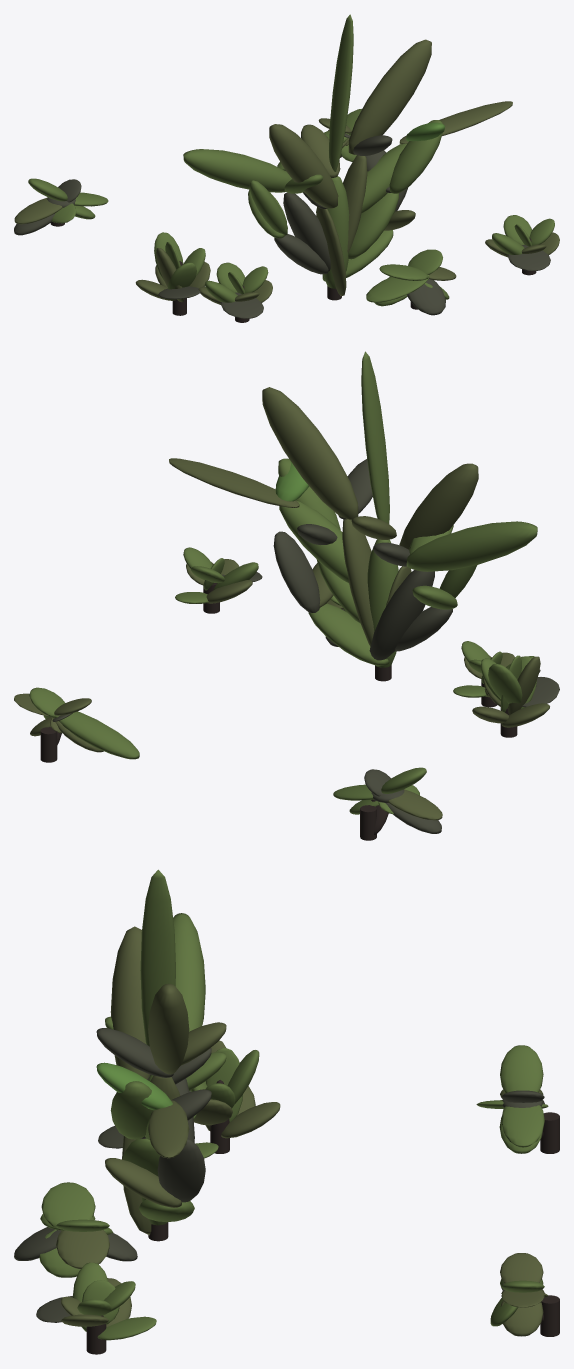
The model's file is CMU3DRMCBusha1.glb.
3 renders of one model, top to bottom at view 1: azimuth 30°, elevation 25°; view 2: azimuth 150°, elevation 25°; view 3: azimuth 270°, elevation 25°, orthographic. The views are drawn at different scales.
Visible parts, largest first — view 1: main blade 3 section 1, main blade 1 section 1, main blade 0 section 1, main blade 2 section 1, main blade 1 section 0, main blade 4 section 1, main blade 4 section 0, main blade 3 section 0, main blade 7 section 0, main blade 0 section 0, main blade 7 section 1, main blade 2 section 0 (+28 smaller); view 2: main blade 3 section 1, main blade 1 section 1, main blade 0 section 1, main blade 2 section 1, main blade 1 section 0, main blade 3 section 0, main blade 5 section 1, main blade 7 section 1, main blade 7 section 0, main blade 5 section 0, tuft 1 source leaf 0, main blade 2 section 0 (+20 smaller); view 3: main blade 2 section 1, main blade 0 section 1, main blade 3 section 1, main blade 1 section 1, main blade 5 section 1, tuft 4 source leaf 6, main blade 4 section 1, main blade 7 section 1, main blade 5 depth leaf, tuft 0 source leaf 6, tuft 4 source leaf 3, main blade 3 depth leaf (+23 smaller).
Part boxes in pixels (box(x1,y1,x2,y2)): main blade 3 section 1: box(348, 39, 431, 155); main blade 1 section 1: box(183, 149, 291, 192); main blade 0 section 1: box(269, 124, 338, 208); main blade 2 section 1: box(329, 14, 353, 171); main blade 1 section 0: box(283, 192, 330, 271); main blade 4 section 1: box(389, 120, 442, 193); main blade 4 section 0: box(348, 193, 398, 259); main blade 3 section 0: box(343, 155, 367, 253); main blade 7 section 0: box(361, 143, 406, 213); main blade 0 section 0: box(316, 207, 346, 295); main blade 7 section 1: box(399, 101, 512, 144); main blade 2 section 0: box(323, 176, 349, 288); main blade 3 section 1: box(262, 387, 358, 520); main blade 1 section 1: box(406, 521, 537, 571); main blade 0 section 1: box(399, 463, 478, 549); main blade 2 section 1: box(361, 351, 389, 523); main blade 1 section 0: box(369, 570, 434, 660); main blade 3 section 0: box(342, 519, 374, 646); main blade 5 section 1: box(273, 531, 320, 612); main blade 7 section 1: box(169, 458, 299, 507); main blade 7 section 0: box(279, 500, 348, 583); main blade 5 section 0: box(308, 603, 389, 665); tuft 1 source leaf 0: box(59, 711, 139, 759); main blade 2 section 0: box(367, 539, 398, 667); main blade 2 section 1: box(140, 869, 175, 1046); main blade 0 section 1: box(110, 926, 150, 1079); main blade 3 section 1: box(148, 983, 189, 1074); main blade 1 section 1: box(173, 913, 205, 1031); main blade 5 section 1: box(157, 1138, 205, 1202); tuft 4 source leaf 6: box(41, 1182, 95, 1230); main blade 4 section 1: box(110, 1081, 152, 1139); main blade 7 section 1: box(148, 1100, 189, 1158); main blade 5 depth leaf: box(105, 1158, 181, 1207); tuft 0 source leaf 6: box(500, 1045, 543, 1093); tuft 4 source leaf 3: box(56, 1230, 109, 1268); main blade 3 depth leaf: box(96, 1028, 173, 1077).
Bounding box in the file's own units: 0.8996 × 0.6321 × 0.8274.
